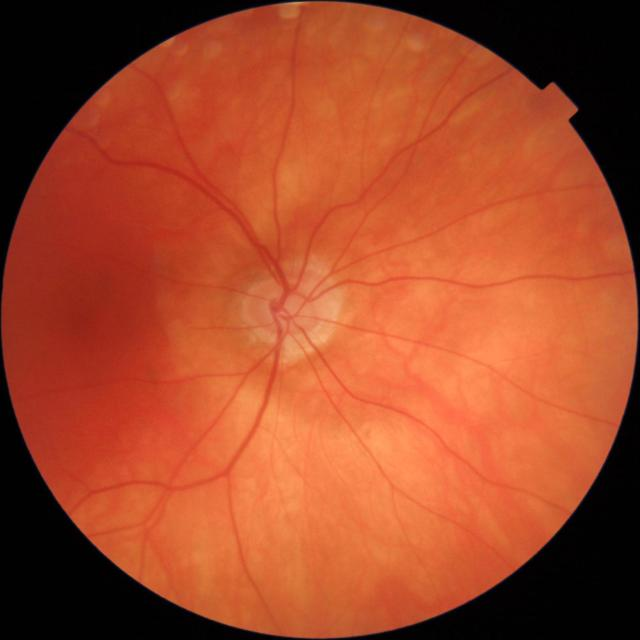OD: (244, 282, 319, 334)
